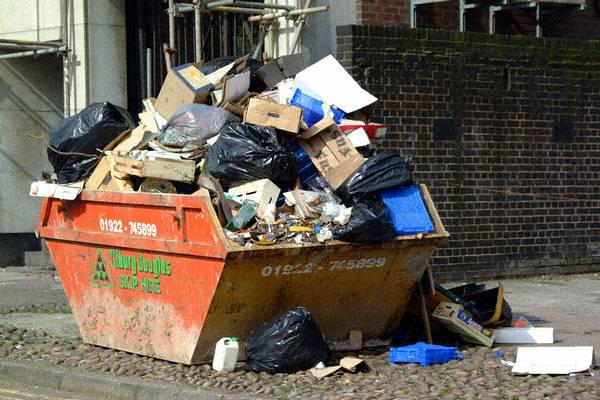Container: (35, 176, 441, 370)
Garbage: (204, 58, 361, 156), (433, 276, 569, 389), (122, 103, 288, 195), (251, 314, 354, 390), (39, 107, 139, 162), (159, 109, 254, 151), (340, 187, 399, 244), (277, 70, 343, 117), (253, 200, 334, 236), (293, 177, 351, 227), (221, 132, 285, 175), (351, 149, 416, 191), (164, 101, 235, 138), (232, 219, 281, 243)
